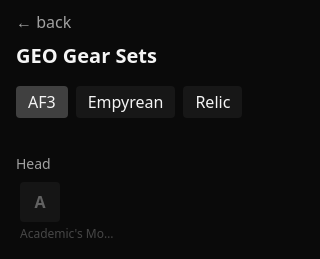
Test: GearScreen › shows an empty state for a set type with no definitions for this job
The image size is (320, 259).
Expected: the text "Academic's Mortarboard" is shown, [20, 226, 116, 242]
Click the tab "Relic".
click(213, 102)  # box [183, 86, 242, 118]
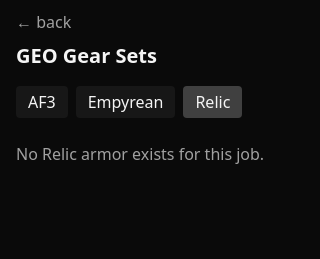
Expected: the text "No Relic armor exists for this job." is shown, [16, 143, 264, 165]
